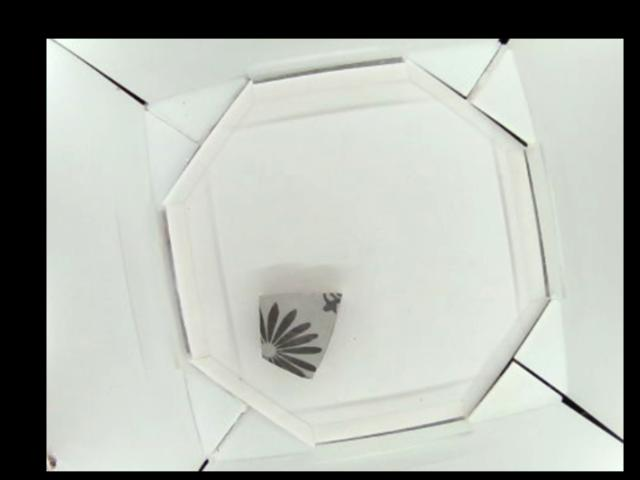China: (257, 291, 344, 379)
